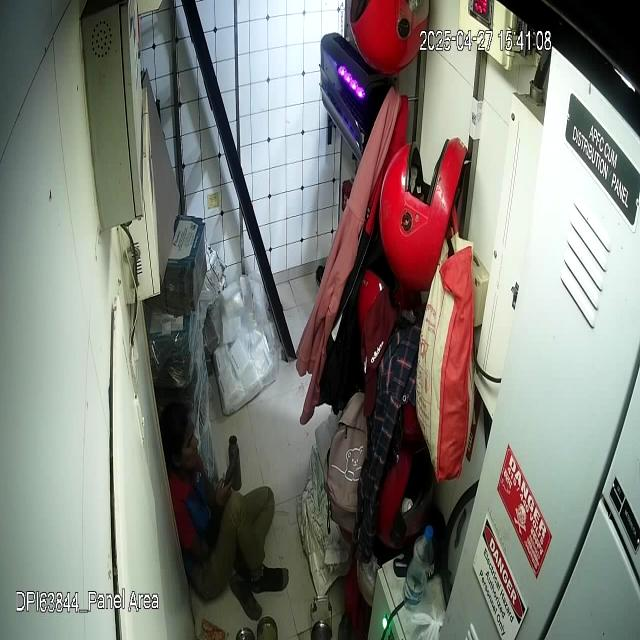helmet: (378, 138, 467, 293)
no_helmet: (159, 399, 200, 471)
